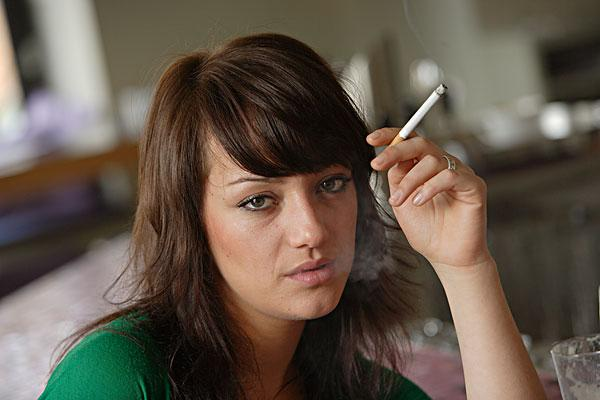smoke: (368, 80, 449, 166)
